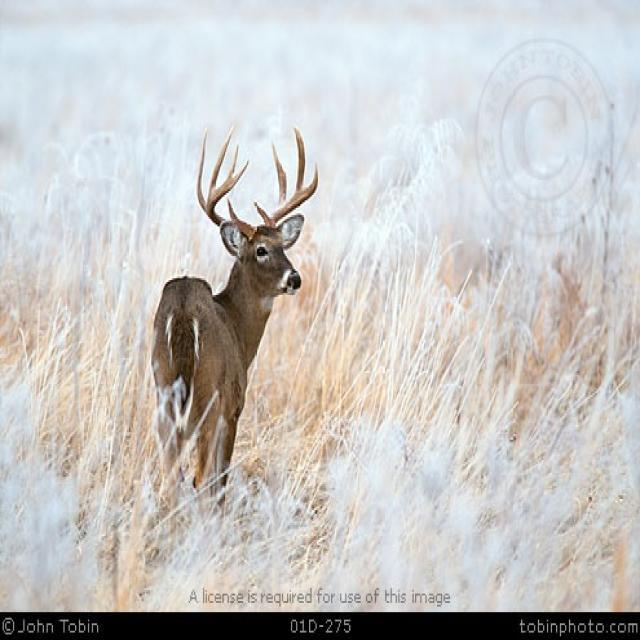E1: (226, 139, 240, 179)
L-F: (265, 160, 319, 227)
L-G1: (252, 200, 270, 224)
L-G2: (271, 136, 288, 208)
L-G3: (292, 124, 306, 194)
R-F: (206, 157, 250, 227)
R-G1: (227, 197, 241, 221)
R-G2: (196, 123, 208, 214)
R-G3: (208, 122, 236, 196)
